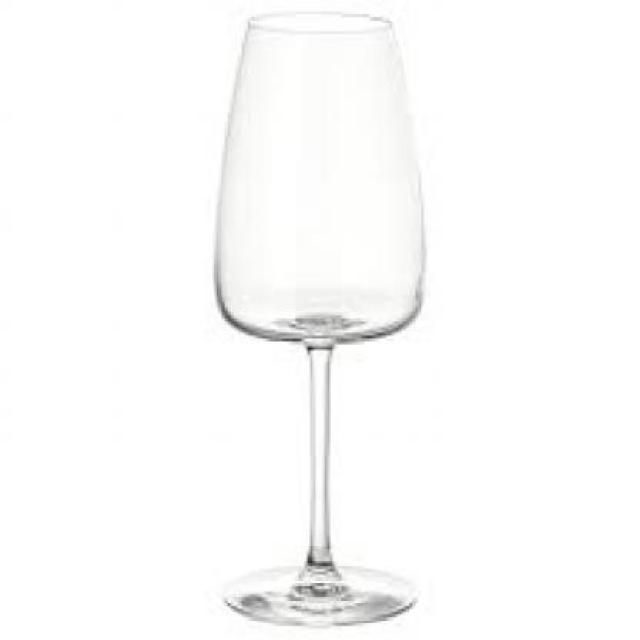kaca: (215, 11, 418, 623)
